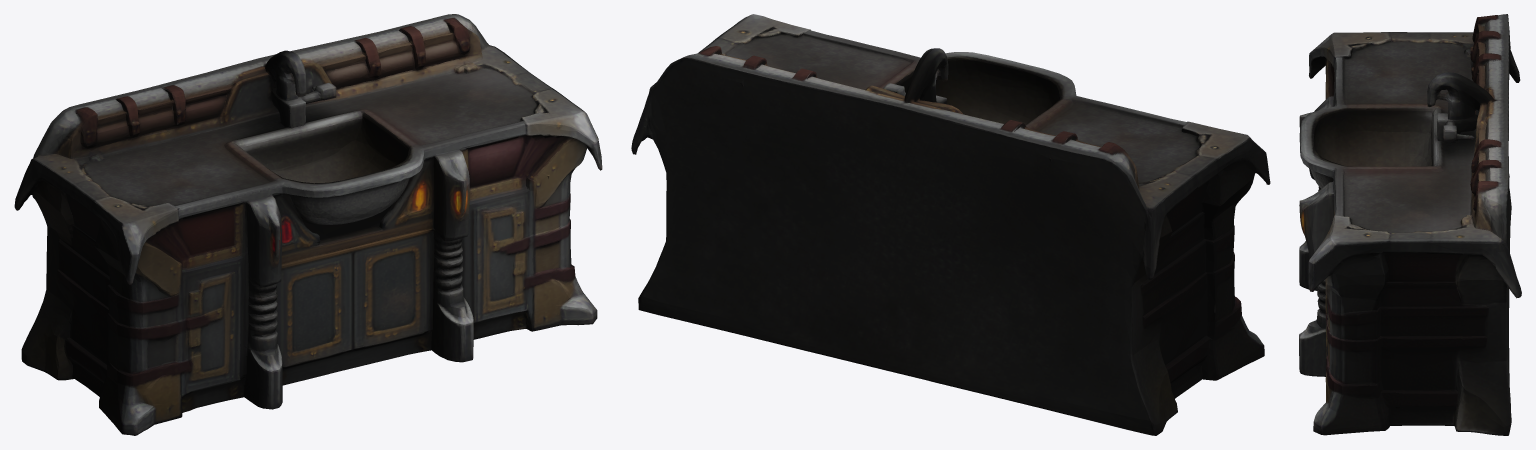
File: galley_sink.glb
3 views of the same model, side by side, from view 1: azimuth 30°, elevation 25°; view 2: azimuth 150°, elevation 25°; view 3: azimuth 270°, elevation 25° (orthographic). The views are drawn at different scales.
Visible parts, largest first — view 1: world; view 2: world; view 3: world.
Boxes of the visible parts, x1,y1,x2,y2 form: world: [14, 14, 602, 435]; world: [631, 14, 1270, 435]; world: [1299, 14, 1521, 435].
Size of the model in its own units: 0.9984 by 0.5521 by 0.4328.
1 material, 1 textured.
